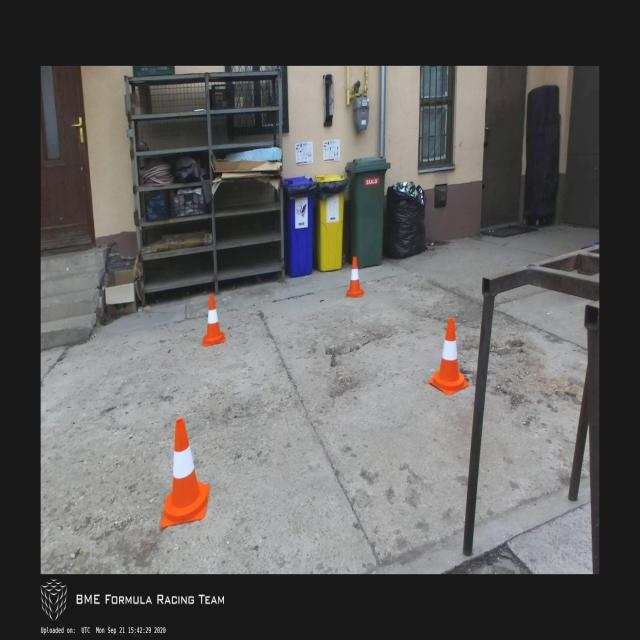orange_cone: (160, 418, 210, 528), (428, 318, 470, 395), (203, 294, 226, 346), (345, 257, 364, 297)
